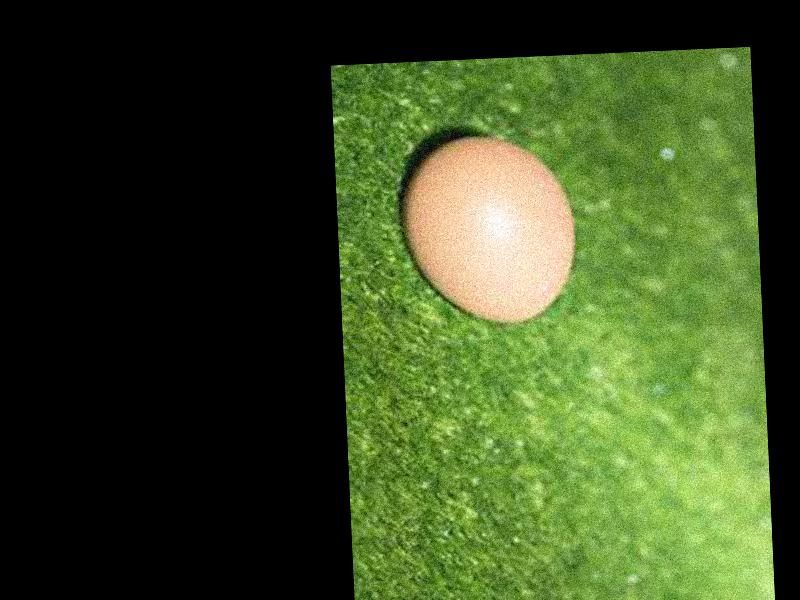Eggs: (397, 130, 576, 329)
